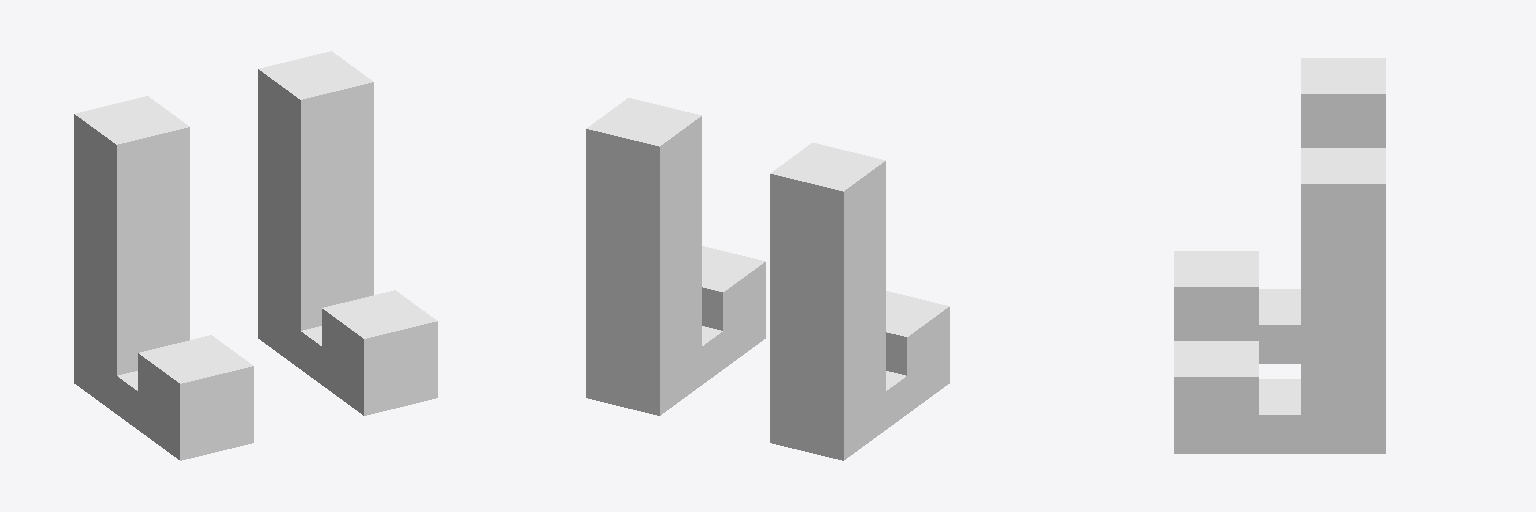
File: DuoCherrypies2.obj
3 renders of one model, left to right at view 1: azimuth 30°, elevation 25°; view 2: azimuth 150°, elevation 25°; view 3: azimuth 270°, elevation 25°, orthographic.
Visible parts, largest first — view 1: object 1; view 2: object 1; view 3: object 1.
Part boxes in pixels (x1,y1,x2,y2): object 1: (74,51,437,460); object 1: (586,98,949,460); object 1: (1174,58,1385,453).
Size of the model in its own units: 0.7 by 0.7 by 0.5.